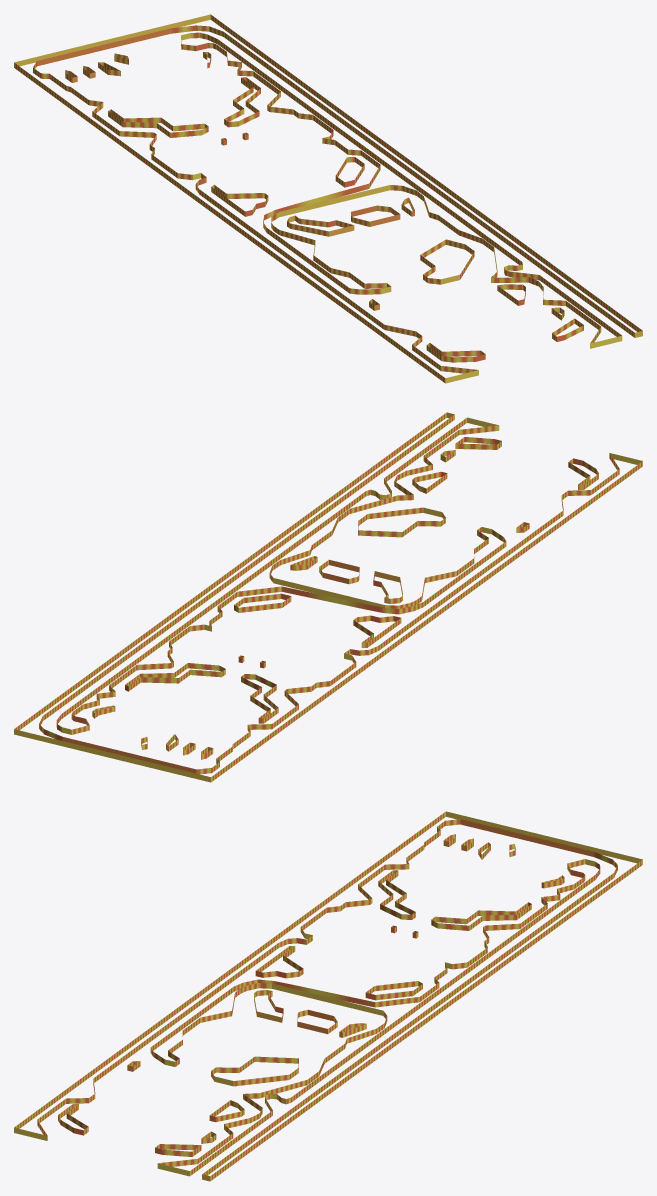
The model's file is table_walls.obj.
3 views of the same model, one above another, from view 1: azimuth 30°, elevation 25°; view 2: azimuth 150°, elevation 25°; view 3: azimuth 330°, elevation 25° (orthographic).
Parts seen in each view (by area): view 1: Plane.018; view 2: Plane.018; view 3: Plane.018.
Part boxes in pixels (box(x1,y1,x2,y2)): Plane.018: box(14, 14, 642, 383); Plane.018: box(14, 412, 642, 782); Plane.018: box(14, 811, 642, 1181).
Size of the model in its own units: 9.58 by 0.25 by 36.45.
1 material, 1 textured.
